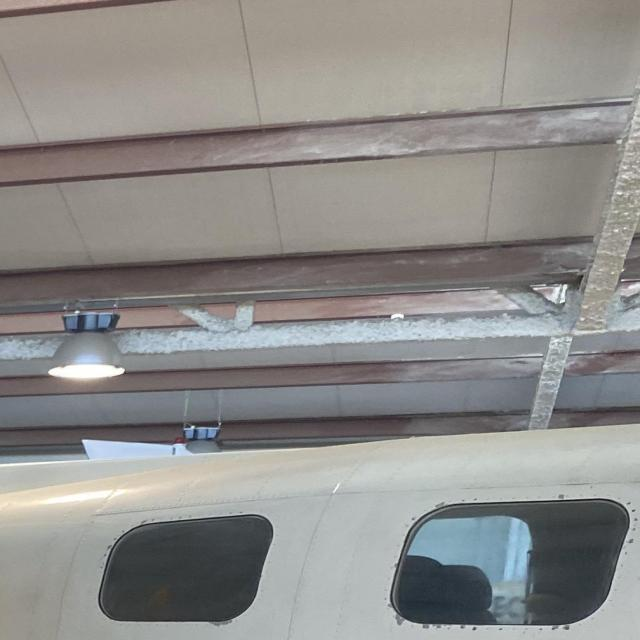Paint-off: (206, 619, 233, 627), (395, 610, 406, 626), (420, 624, 446, 630), (556, 491, 566, 500), (432, 502, 447, 507), (395, 563, 398, 568)
